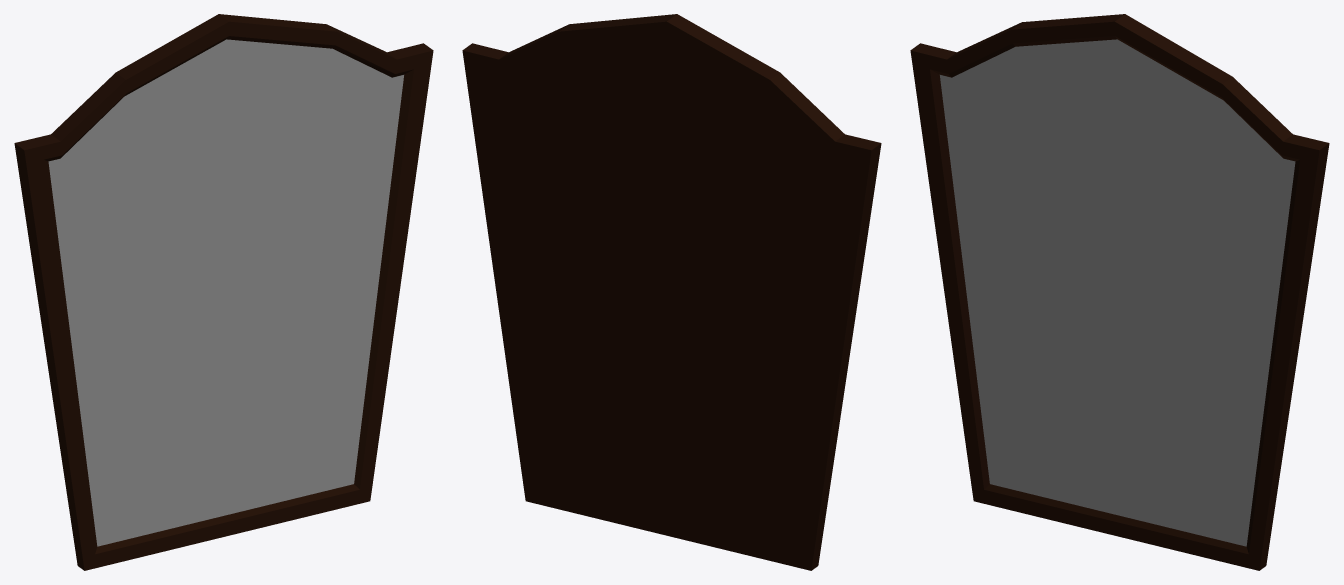
The model's file is House_Bathroom_Mirror.FBX.
3 renders of one model, left to right at view 1: azimuth 30°, elevation 25°; view 2: azimuth 150°, elevation 25°; view 3: azimuth 330°, elevation 25°, orthographic.
Visible parts, largest first — view 1: House_Bathroom_Miirror; view 2: House_Bathroom_Miirror; view 3: House_Bathroom_Miirror.
Part boxes in pixels (x1=…): House_Bathroom_Miirror: x1=14, y1=14, x2=433, y2=570; House_Bathroom_Miirror: x1=462, y1=14, x2=881, y2=570; House_Bathroom_Miirror: x1=910, y1=14, x2=1329, y2=570.
Bounding box in the file's own units: 168 × 203 × 7.46.
